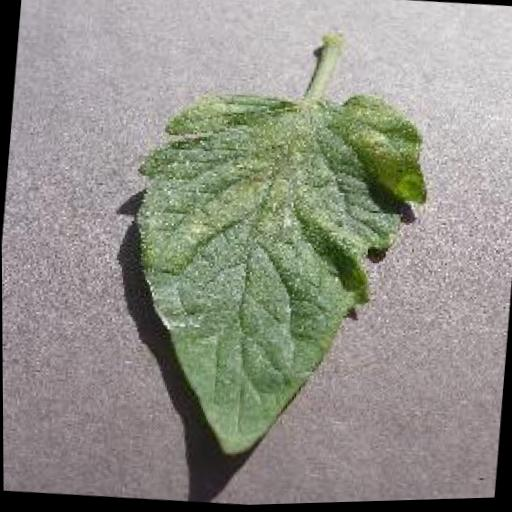Spider Mites: (112, 76, 435, 477)
